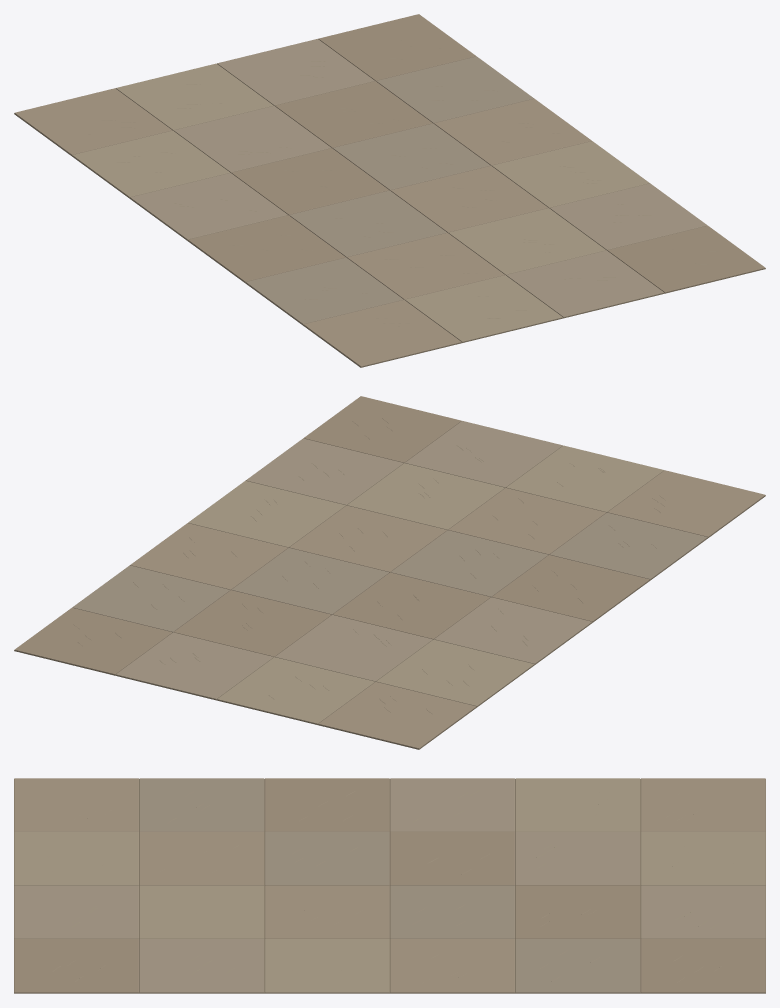
File: paving.glb
3 renders of one model, top to bottom at view 1: azimuth 30°, elevation 25°; view 2: azimuth 150°, elevation 25°; view 3: azimuth 270°, elevation 25°, orthographic. The views are drawn at different scales.
Visible parts, largest first — view 1: paving; view 2: paving; view 3: paving.
Boxes of the visible parts, bbox=[...] form: paving: bbox=[14, 14, 765, 367]; paving: bbox=[14, 396, 765, 749]; paving: bbox=[14, 778, 765, 993].
Bounding box in the file's own units: 4.37 × 0.0158 × 6.48.
